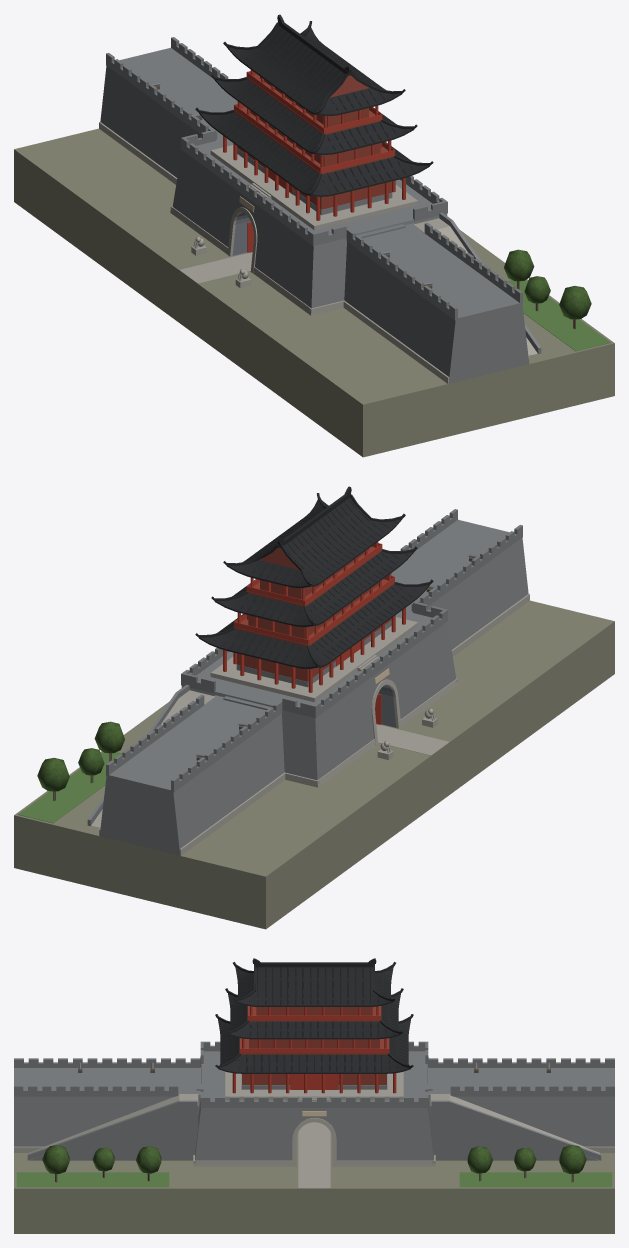
File: top-prebuilt.fbx
3 renders of one model, top to bottom at view 1: azimuth 30°, elevation 25°; view 2: azimuth 150°, elevation 25°; view 3: azimuth 270°, elevation 25°, orthographic. The views are drawn at different scales.
Visible parts, largest first — view 1: landmark-city_gate_tower/0/top-prebuilt; view 2: landmark-city_gate_tower/0/top-prebuilt; view 3: landmark-city_gate_tower/0/top-prebuilt.
Boxes of the visible parts, x1,y1,x2,y2 form: landmark-city_gate_tower/0/top-prebuilt: [14, 14, 614, 457]; landmark-city_gate_tower/0/top-prebuilt: [14, 486, 614, 929]; landmark-city_gate_tower/0/top-prebuilt: [14, 958, 614, 1233].
Bounding box in the file's own units: 50 × 49 × 120.
